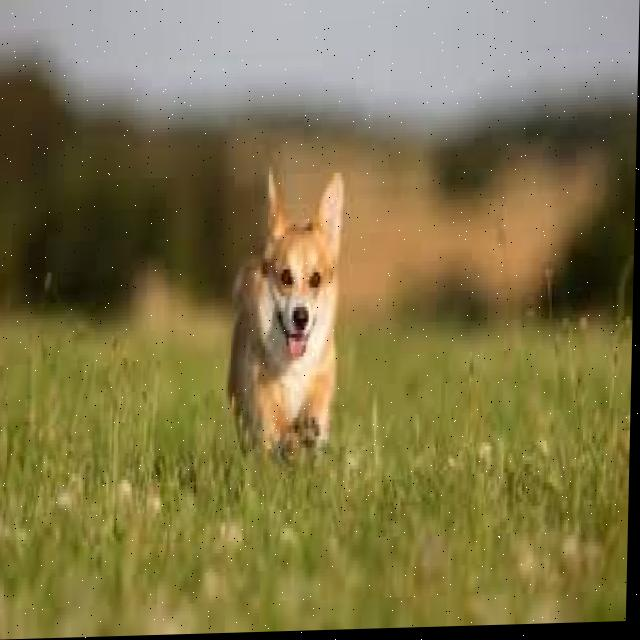CORGI: (216, 145, 365, 480)
